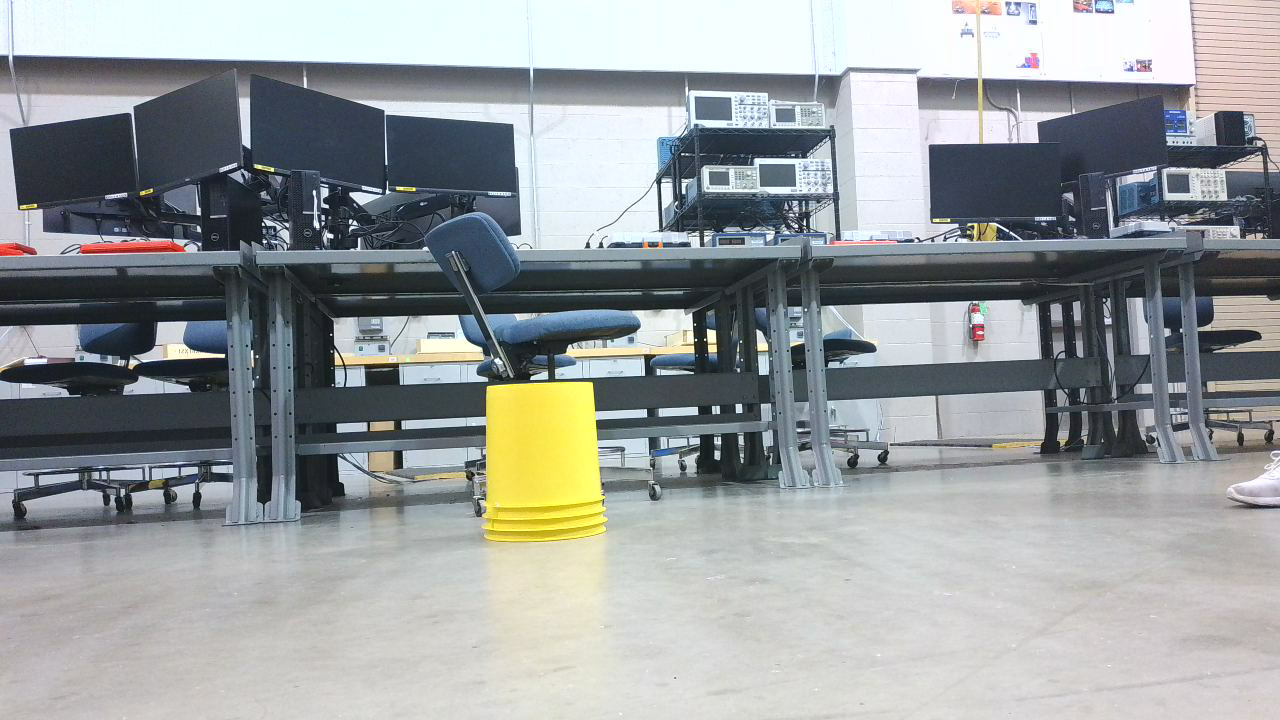yellow_bucket: (480, 378, 620, 555)
